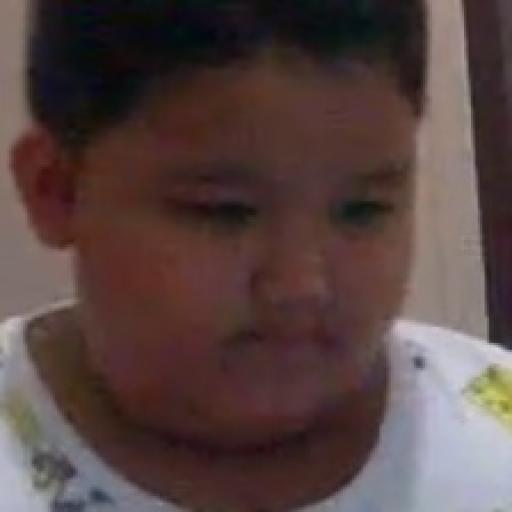Autism: (16, 25, 464, 512)
